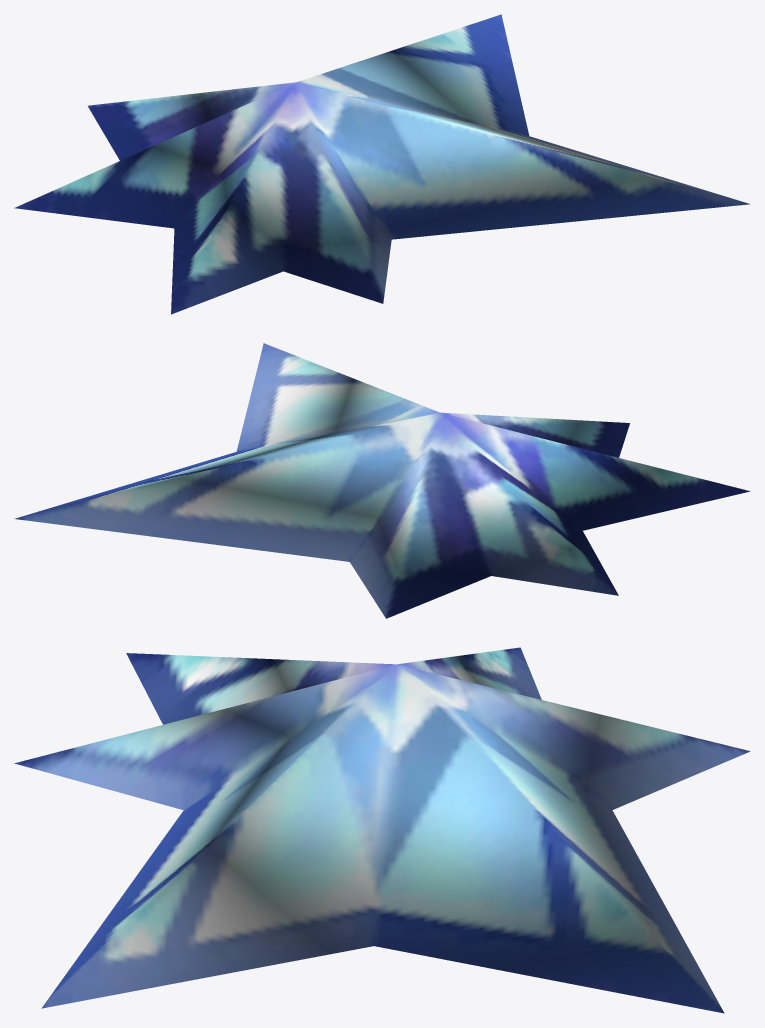
The model's file is item_armshilucid.glb.
3 renders of one model, top to bottom at view 1: azimuth 30°, elevation 25°; view 2: azimuth 150°, elevation 25°; view 3: azimuth 270°, elevation 25°, orthographic. The views are drawn at different scales.
Parts seen in each view (by area): view 1: item_0; view 2: item_0; view 3: item_0.
Boxes of the visible parts, bbox=[...] form: item_0: bbox=[14, 14, 750, 314]; item_0: bbox=[14, 343, 750, 618]; item_0: bbox=[14, 647, 750, 1013].
Size of the model in its own units: 0.7684 by 0.1981 by 0.6537.
1 material, 1 textured.
